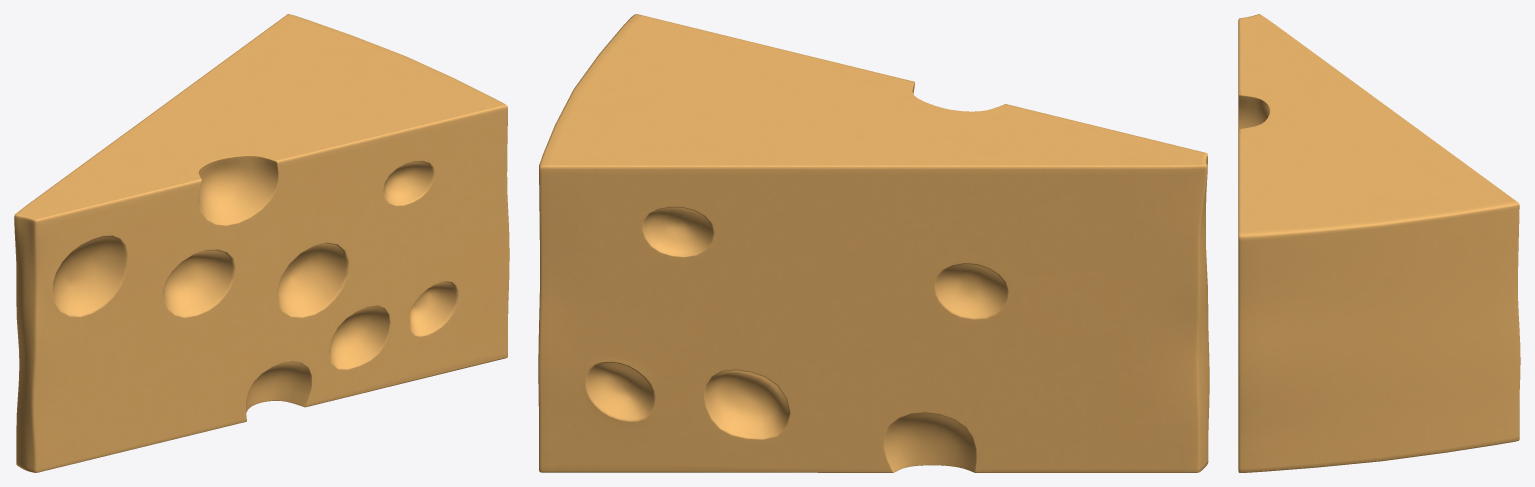
The model's file is cheesetriangle_v3.1_Cycles.glb.
The picture shows the model from 3 angles, left to right: view 1: azimuth 30°, elevation 25°; view 2: azimuth 150°, elevation 25°; view 3: azimuth 270°, elevation 25°; orthographic projection. The views are drawn at different scales.
Visible parts, largest first — view 1: poct_cheese_body; view 2: poct_cheese_body; view 3: poct_cheese_body.
Part boxes in pixels (x1,y1,x2,y2): poct_cheese_body: (14, 14, 509, 472); poct_cheese_body: (538, 14, 1209, 472); poct_cheese_body: (1238, 14, 1520, 472).
Size of the model in its own units: 0.1455 by 0.0726 by 0.0779.
1 material, 1 textured.
